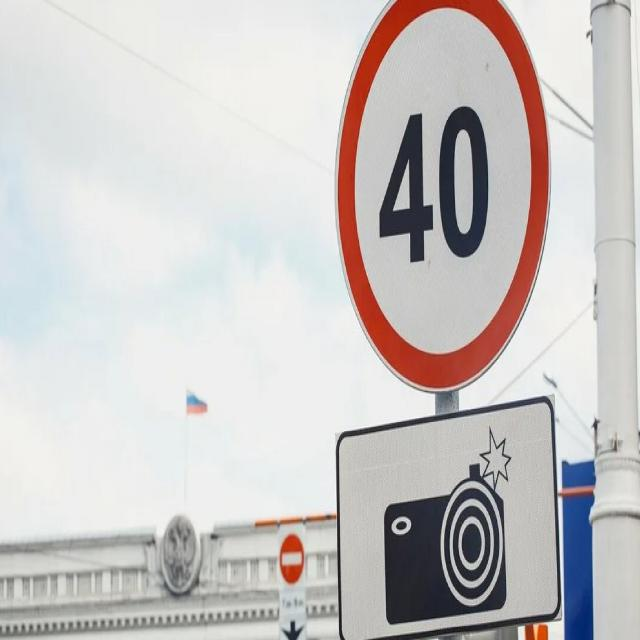speed limit 40: (334, 0, 554, 392)
